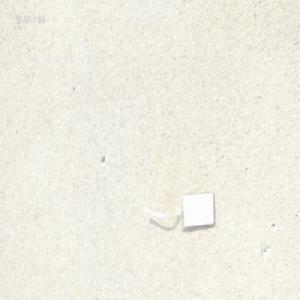LuggageTag: (143, 189, 215, 231)
